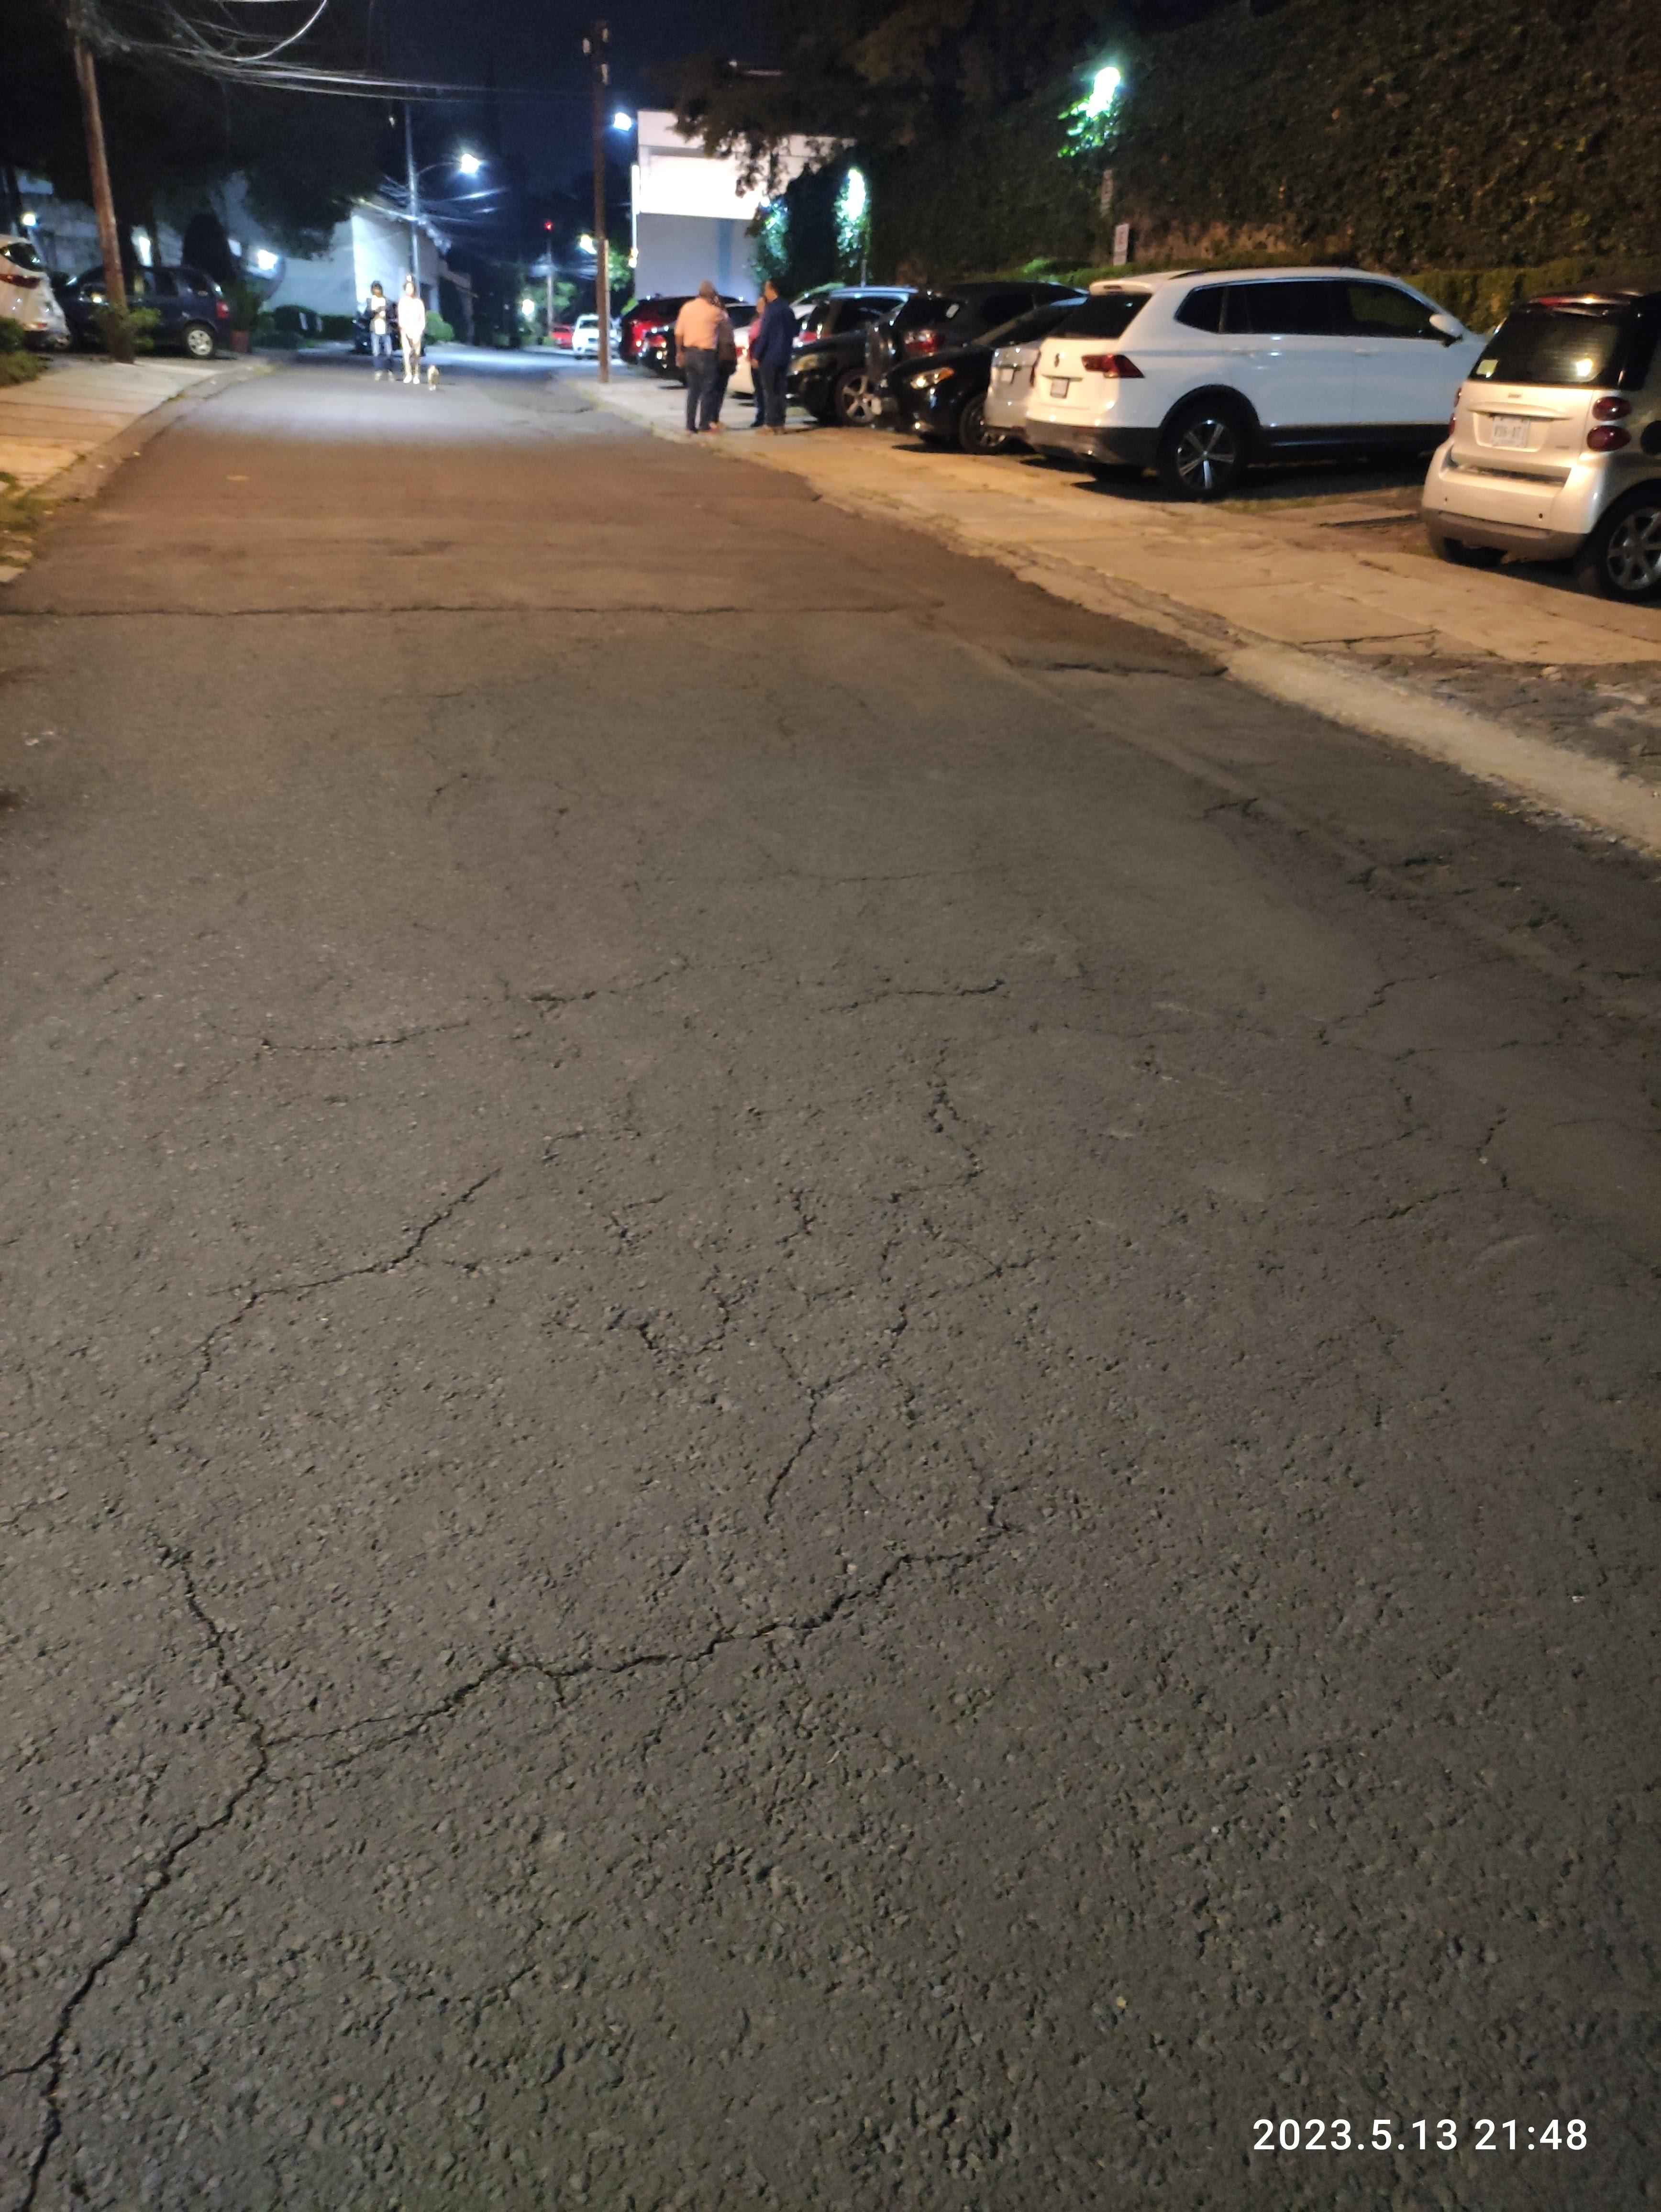alligator-crack: (612, 1078, 1078, 1495), (1279, 935, 1661, 1216)
crack: (227, 1478, 1036, 1746), (9, 1519, 284, 2212), (148, 1153, 553, 1411), (265, 942, 698, 1050), (825, 965, 1026, 1024)
